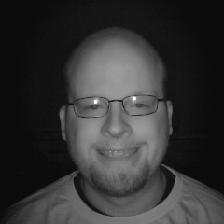happy: (47, 21, 185, 198)
